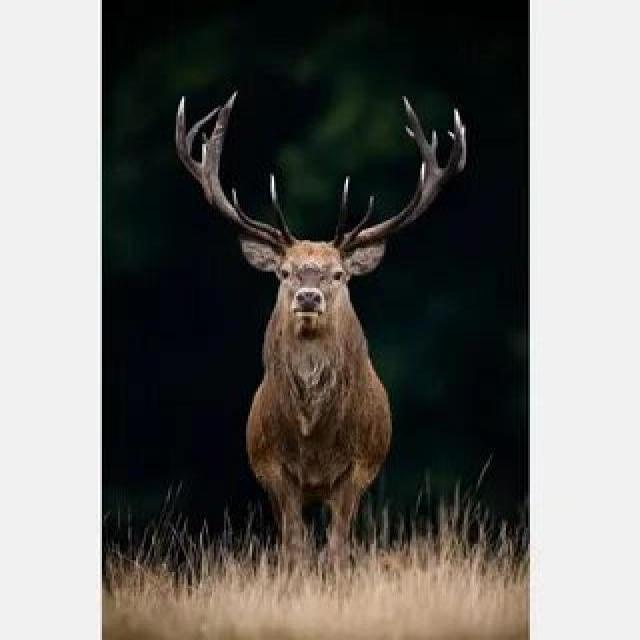deer: (158, 108, 478, 541)
